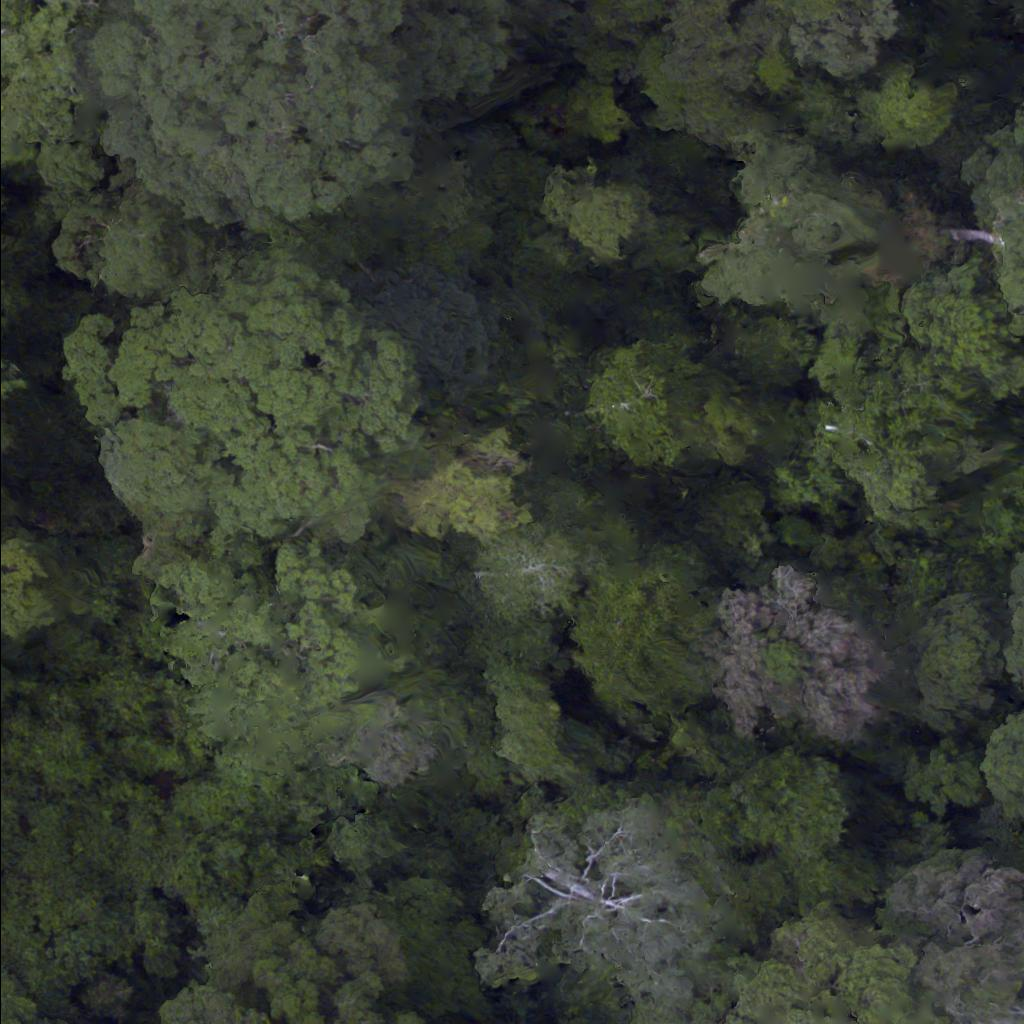crown: (71, 0, 521, 240), (102, 242, 420, 539), (143, 544, 394, 773), (469, 788, 728, 1004), (686, 566, 902, 748), (321, 255, 526, 428), (726, 880, 942, 1023), (573, 542, 714, 732), (570, 339, 777, 467), (876, 843, 1023, 1023), (454, 617, 604, 787), (450, 497, 615, 623), (389, 424, 542, 540), (701, 745, 846, 862), (0, 0, 109, 150), (324, 684, 447, 796), (309, 892, 417, 990), (250, 929, 341, 1023), (0, 539, 66, 646), (159, 982, 271, 1023), (624, 993, 742, 1023), (384, 993, 429, 1023), (0, 490, 7, 523)
